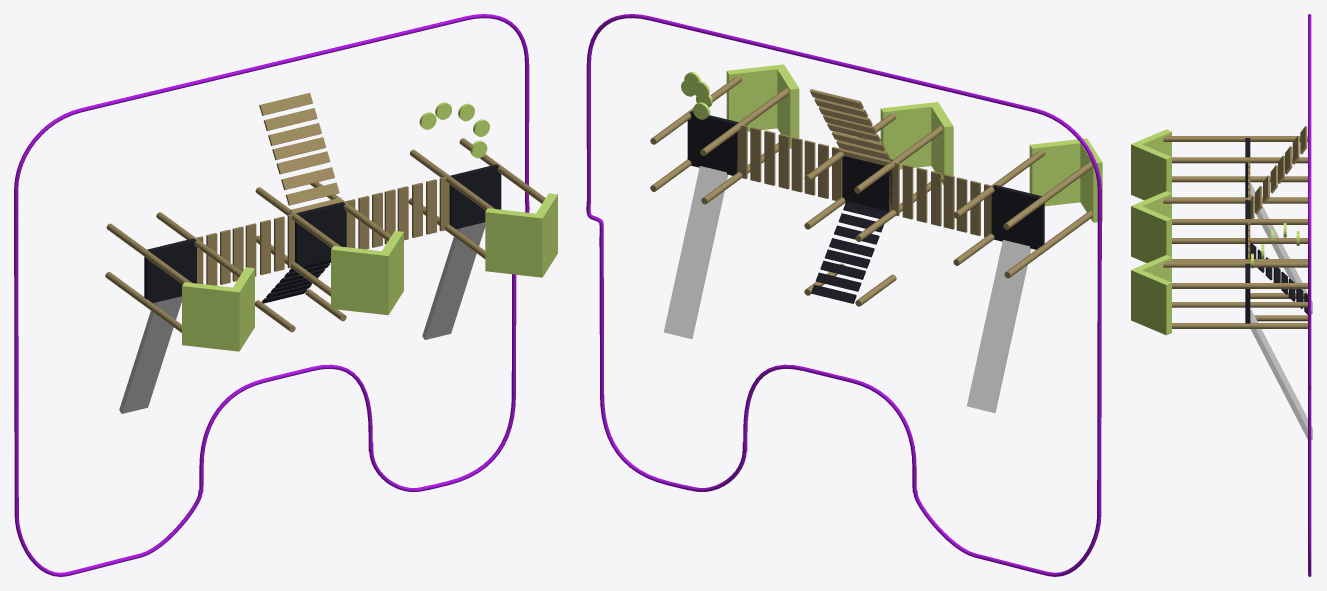
File: leber-lgik-803.glb
3 renders of one model, left to right at view 1: azimuth 30°, elevation 25°; view 2: azimuth 150°, elevation 25°; view 3: azimuth 270°, elevation 25°, orthographic. The views are drawn at different scales.
Visible parts, largest first — view 1: _outline, roof, roof.002, roof.001, bridge.002, bridge.001, bridge, Cube.025, Cube.024, Cube.020, Cube.022, Cube.021 (+5 smaller); view 2: _outline, Cube.024, Cube.025, bridge.001, bridge, roof.002, roof.001, roof, bridge.003, bridge.002, walls, Cube.020 (+5 smaller); view 3: walls.002, walls.001, roof.002, walls, roof.001, roof, _outline, bridge.002, Cube.025, bridge.003, Cube.024, Cylinder.035 (+3 smaller).
Boxes of the visible parts, box(x1,y1,x2,y2) form: _outline: box(14, 14, 529, 576); roof: box(182, 267, 254, 351); roof.002: box(485, 193, 557, 277); roof.001: box(331, 231, 403, 315); bridge.002: box(259, 92, 342, 213); bridge.001: box(345, 176, 449, 249); bridge: box(193, 214, 294, 285); Cube.025: box(422, 222, 485, 339); Cube.024: box(119, 296, 181, 413); Cube.020: box(144, 238, 196, 302); Cube.022: box(449, 164, 501, 229); Cube.021: box(295, 202, 346, 266); _outline: box(586, 14, 1101, 576); Cube.024: box(967, 240, 1031, 412); Cube.025: box(664, 166, 727, 338); bridge.001: box(736, 124, 842, 200); bridge: box(889, 162, 991, 237); roof.002: box(726, 64, 799, 148); roof.001: box(880, 102, 953, 184); roof: box(1029, 138, 1102, 222); bridge.003: box(811, 201, 888, 303); bridge.002: box(810, 89, 892, 165); walls: box(953, 150, 1092, 278); Cube.020: box(991, 185, 1044, 249); walls.002: box(1163, 261, 1307, 328); walls.001: box(1163, 197, 1307, 261); roof.002: box(1131, 255, 1171, 335); walls: box(1163, 136, 1307, 197); roof.001: box(1131, 191, 1171, 262); roof: box(1131, 129, 1171, 200); _outline: box(1308, 14, 1311, 576); bridge.002: box(1250, 126, 1307, 218); Cube.025: box(1250, 309, 1312, 439); bridge.003: box(1250, 242, 1307, 314); Cube.024: box(1250, 184, 1312, 313); Cylinder.035: box(1254, 315, 1307, 321).
Bounding box in the file's own units: 8.48 × 7.34 × 3.05.
